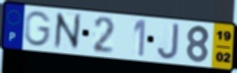1: (131, 18, 147, 59)
2: (91, 16, 116, 56)
8: (186, 24, 211, 64)
G: (24, 10, 53, 48)
J: (156, 22, 181, 61)
N: (53, 11, 82, 51)
